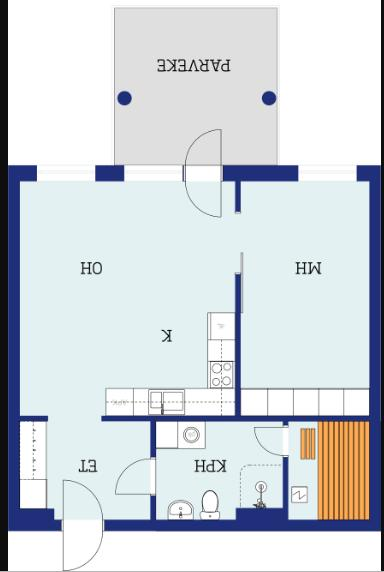bathroom: (157, 422, 284, 523)
door: (59, 476, 107, 531), (182, 163, 225, 220), (59, 520, 105, 569), (184, 126, 224, 181), (114, 457, 159, 498), (252, 425, 290, 459)
perimeter: (1, 164, 384, 531)
window: (119, 159, 186, 185), (292, 161, 361, 184), (30, 162, 101, 184)
